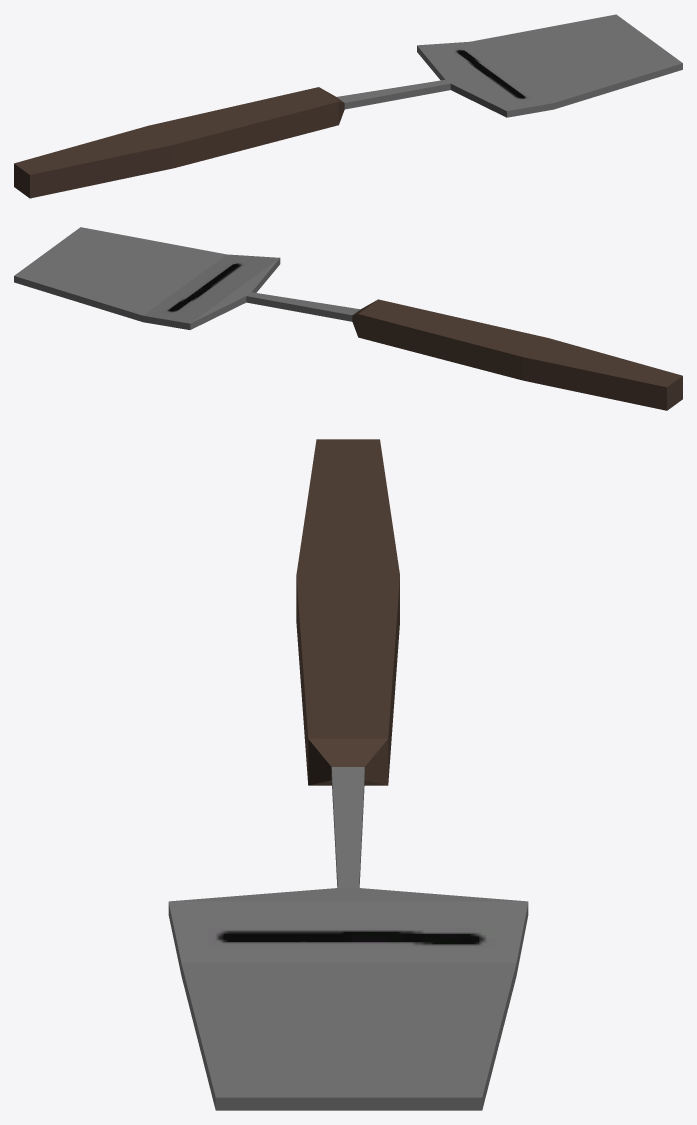
The model's file is ostehovel.glb.
3 views of the same model, one above another, from view 1: azimuth 30°, elevation 25°; view 2: azimuth 150°, elevation 25°; view 3: azimuth 270°, elevation 25° (orthographic). The views are drawn at different scales.
Parts seen in each view (by area): view 1: Plane; view 2: Plane; view 3: Plane.
Part boxes in pixels (bbox=[...]): Plane: bbox=[14, 14, 682, 198]; Plane: bbox=[14, 227, 682, 410]; Plane: bbox=[168, 439, 528, 1110].
Bounding box in the file's own units: 3.68 × 0.165 × 0.9145.
1 material, 1 textured.
